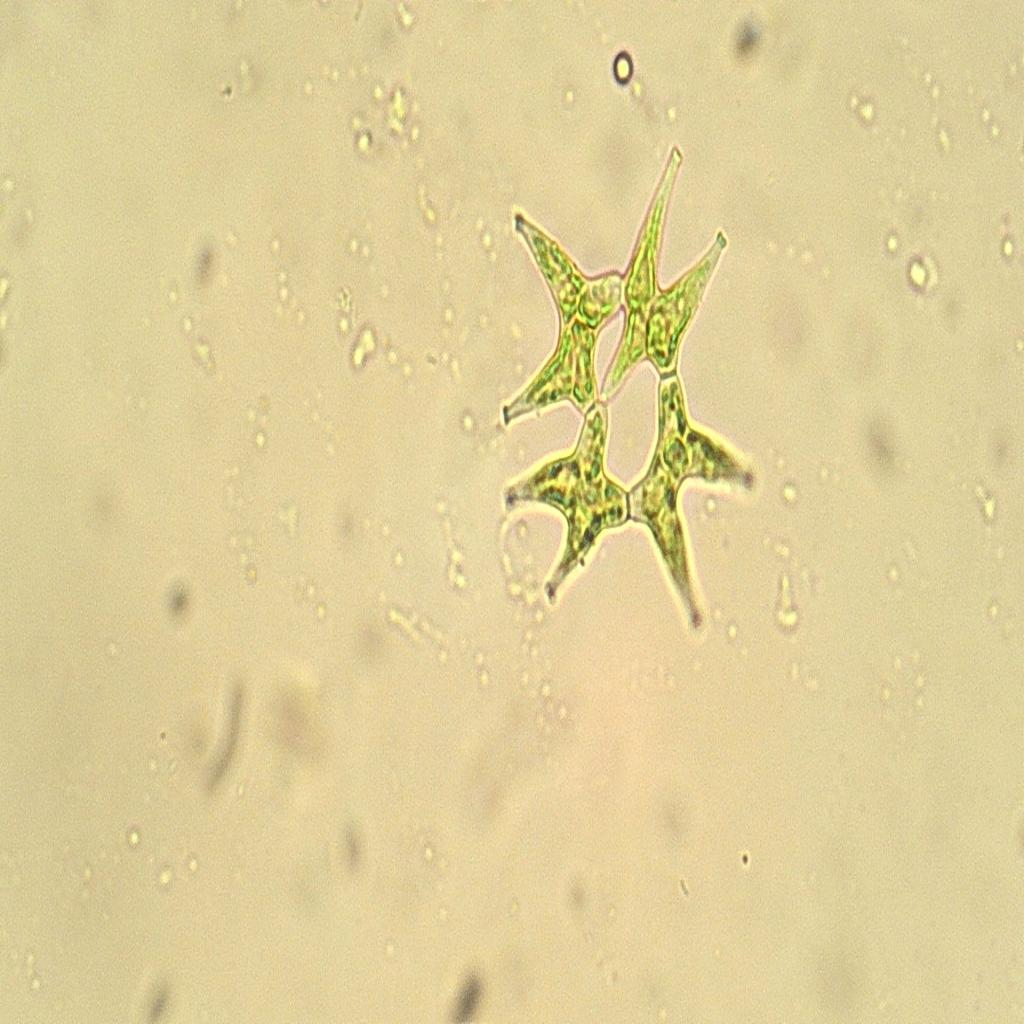Pediastrum_CF: (487, 137, 767, 676)
